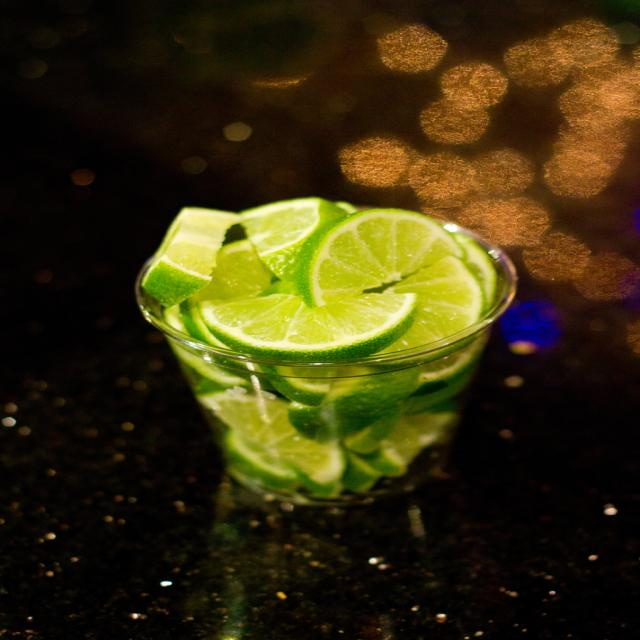Lemon: (139, 188, 497, 496)
